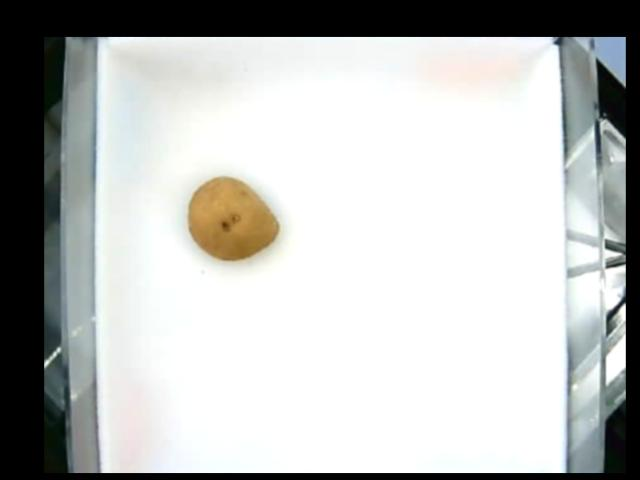Potato: (187, 176, 279, 260)
